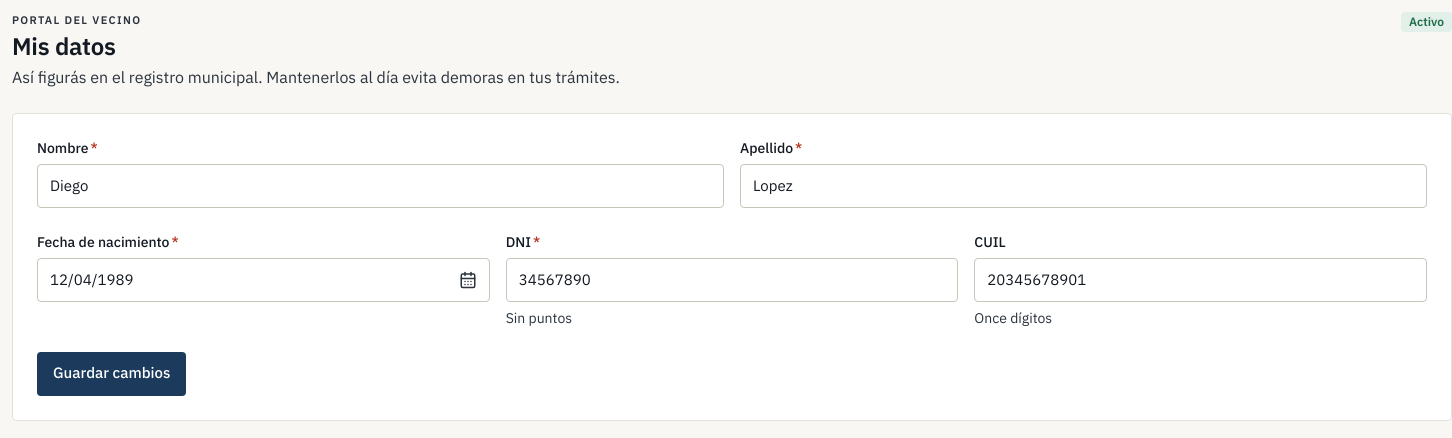
Scenario: Perfil › rechaza fecha de nacimiento vacia o futura ()
Expected: the field labelled "Nombre" is shown, left=37, top=164, right=724, bottom=208
Clear the field labelled "Fecha de nacimiento" at (263, 280), box left=37, top=258, right=490, bottom=302
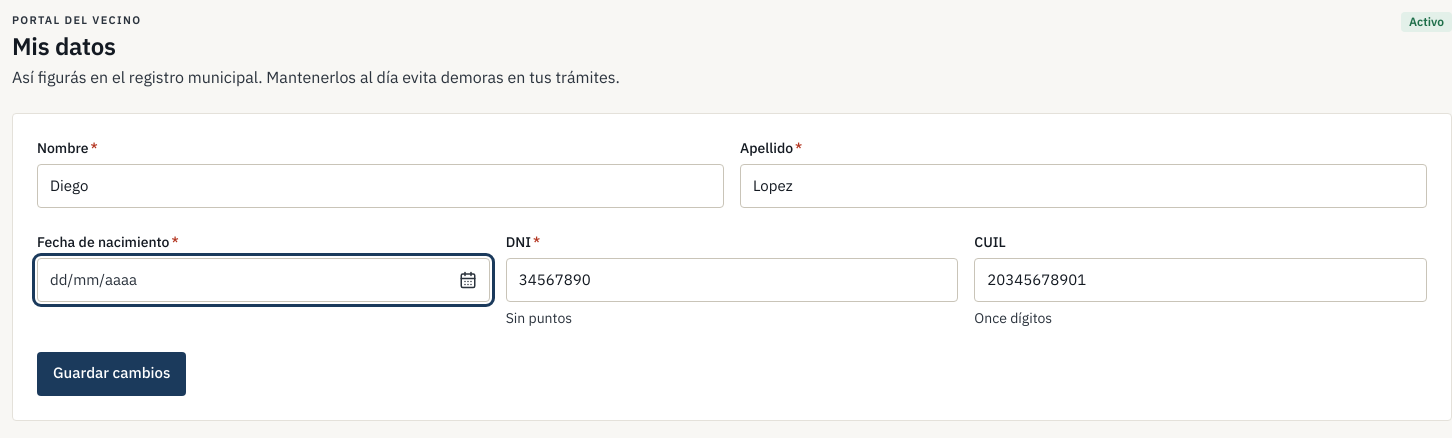
Click the button "Guardar cambios" at (112, 374), box left=37, top=352, right=186, bottom=396
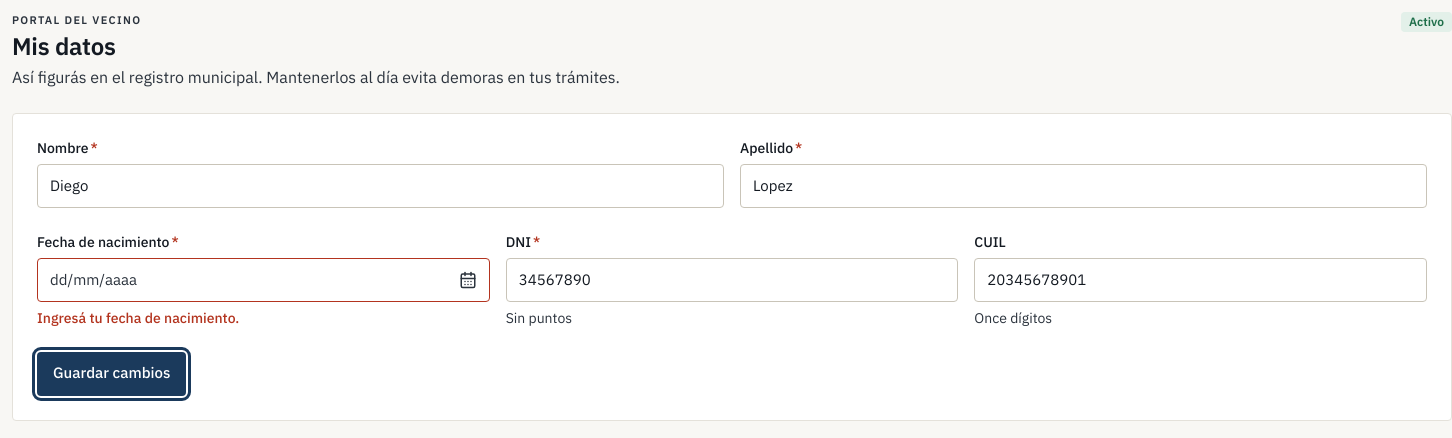
Result: the text "Ingresá tu fecha de nacimiento." is shown at left=37, top=308, right=239, bottom=326
